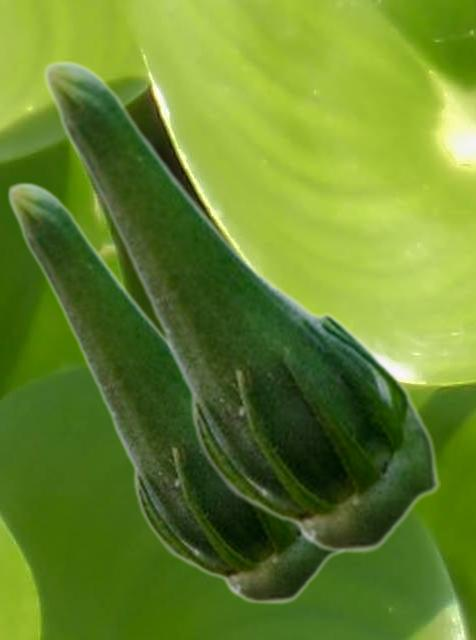okra: (42, 59, 439, 553), (6, 181, 343, 604)
